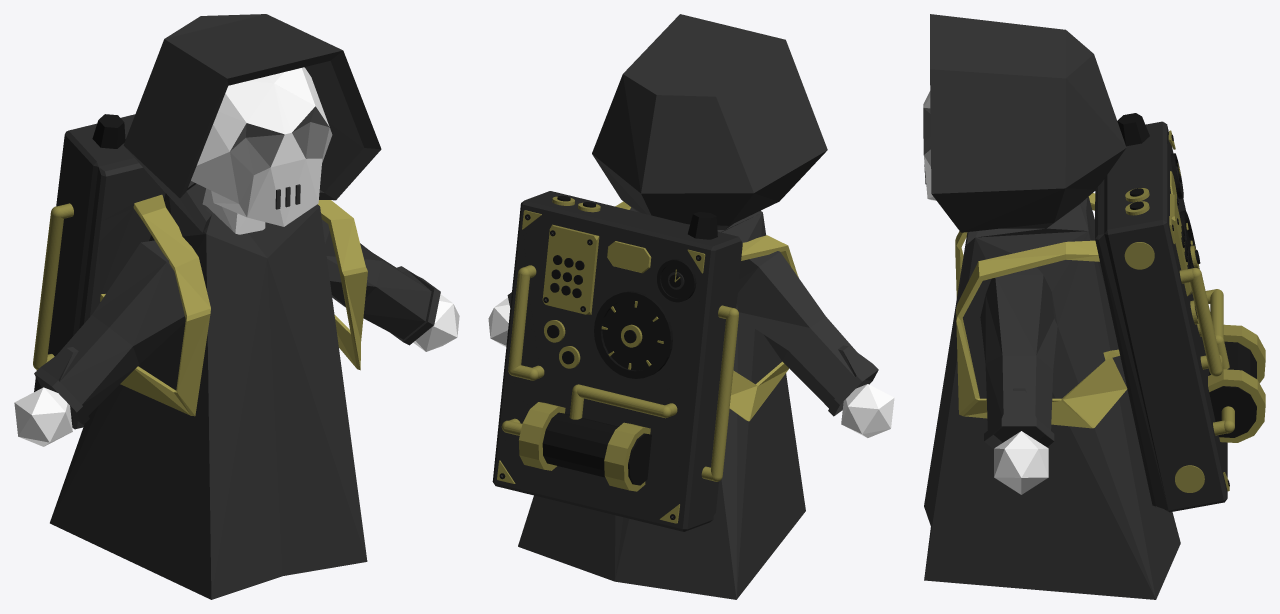
File: avatar-static_v2.dae
3 views of the same model, side by side, from view 1: azimuth 30°, elevation 25°; view 2: azimuth 150°, elevation 25°; view 3: azimuth 270°, elevation 25° (orthographic). The views are drawn at different scales.
Parts seen in each view (by area): view 1: Icosphere_000, c1_001_001, Icosphere_001; view 2: Icosphere_000, c1_001_001; view 3: Icosphere_000, c1_001_001, Icosphere_001.
Boxes of the visible parts, left/top/right/bottom form: Icosphere_000: left=14, top=14, right=459, bottom=599; c1_001_001: left=33, top=114, right=367, bottom=429; Icosphere_001: left=191, top=67, right=332, bottom=234; Icosphere_000: left=488, top=14, right=894, bottom=599; c1_001_001: left=492, top=191, right=798, bottom=531; Icosphere_000: left=924, top=14, right=1180, bottom=599; c1_001_001: left=955, top=113, right=1265, bottom=512; Icosphere_001: left=923, top=91, right=936, bottom=200.
Bounding box in the file's own units: 2.68 × 1.85 × 2.99.
